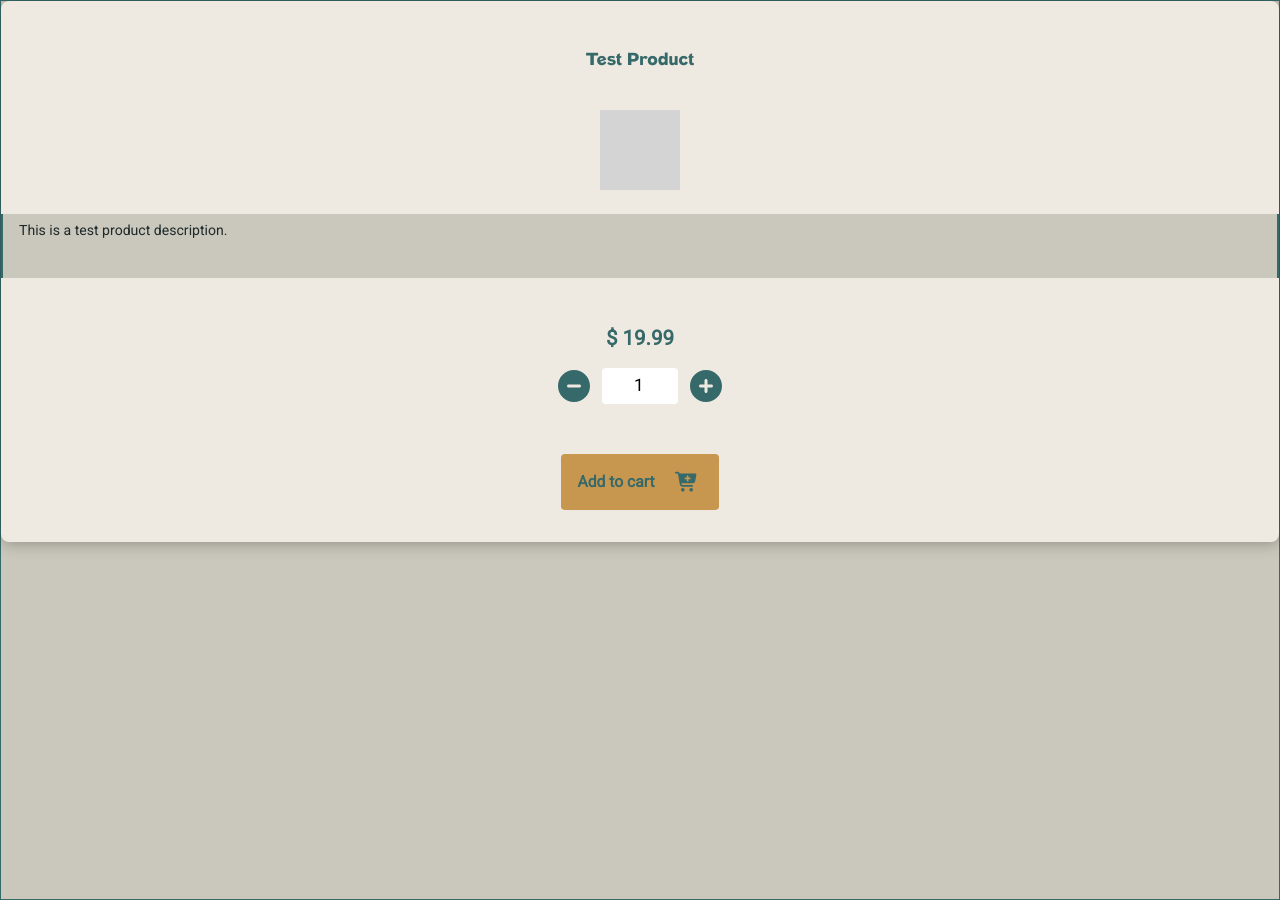
Scenario: ProductCard › increases quantity when increase button is clicked
Click the button named "increase quantity".
click(706, 386)  # box [686,366,726,406]
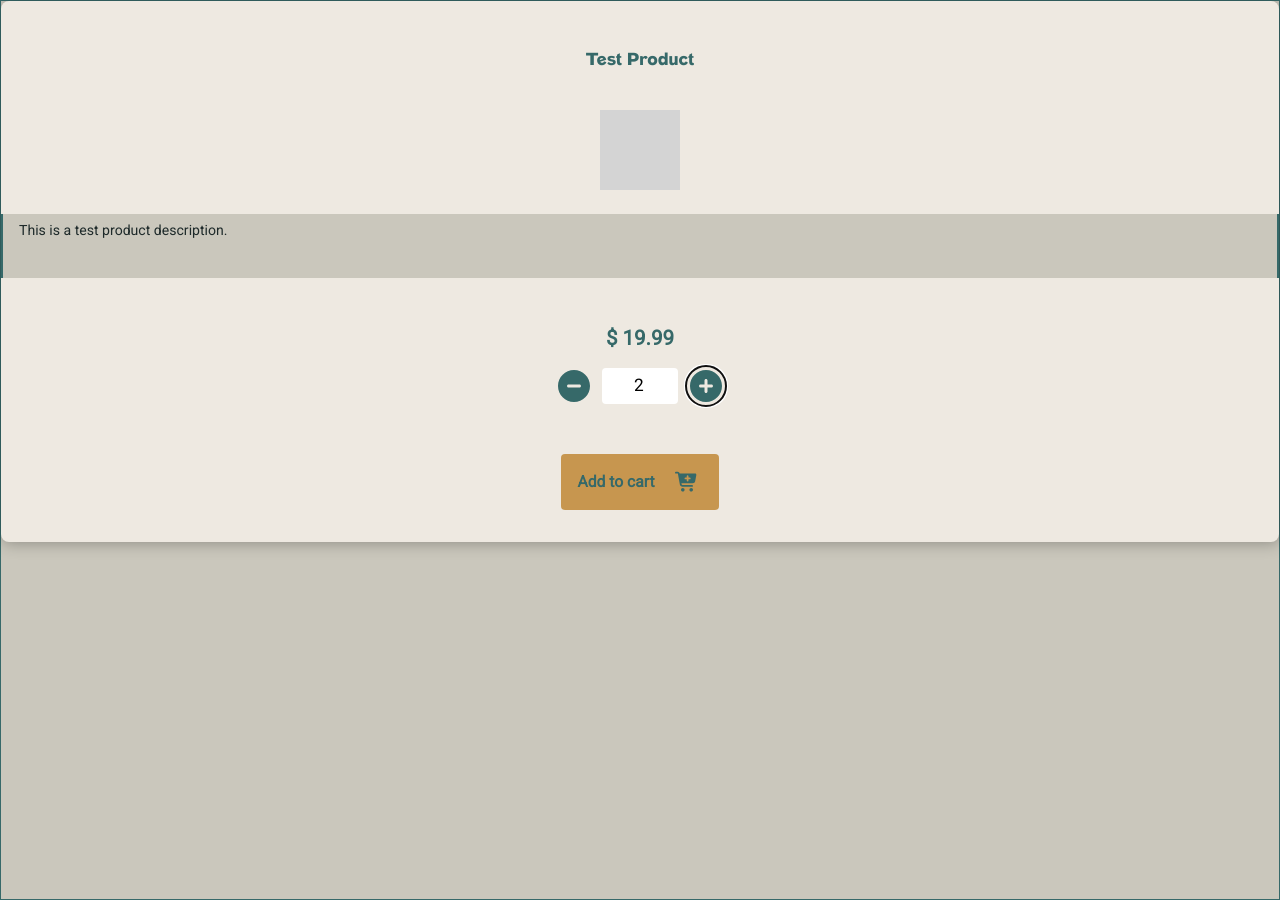
Now the number field named "quantity" holds "2", box [602,368,678,404]
